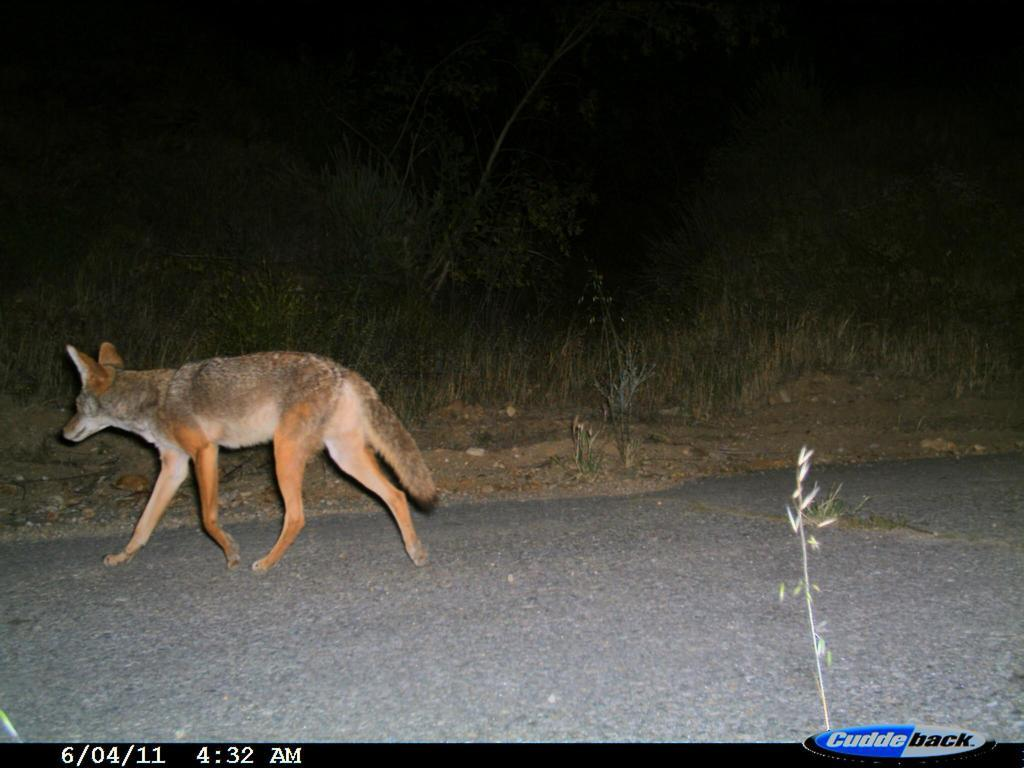coyote: (54, 332, 455, 585)
